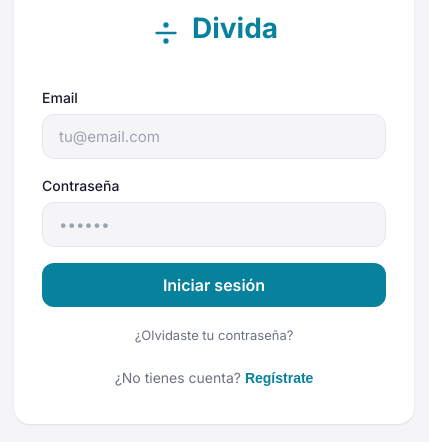
Test: LoginPage › toggles between login and register
Expected: the button "Iniciar sesión" is shown, [42,263,386,307]
Click the button "Regístrate": point(279, 378) [245,370,313,386]
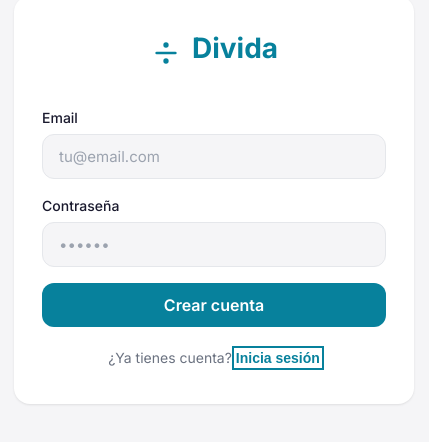
Expected: the button "Crear cuenta" is shown, [42,283,386,327]
